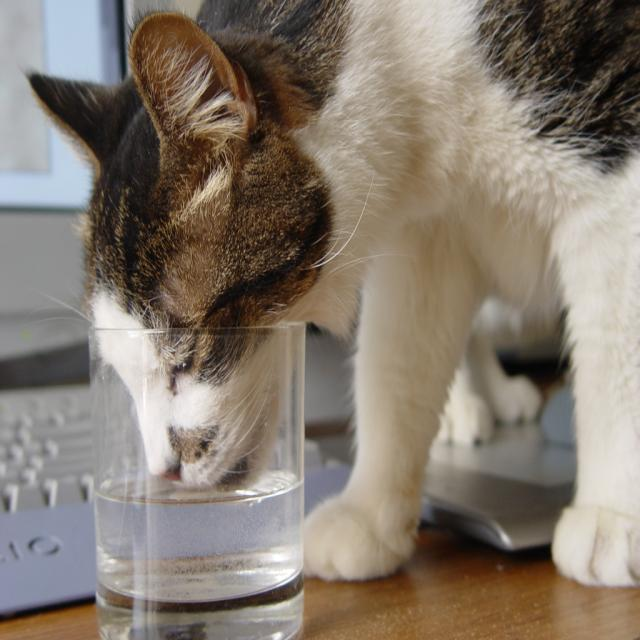Cat: (17, 0, 638, 592)
